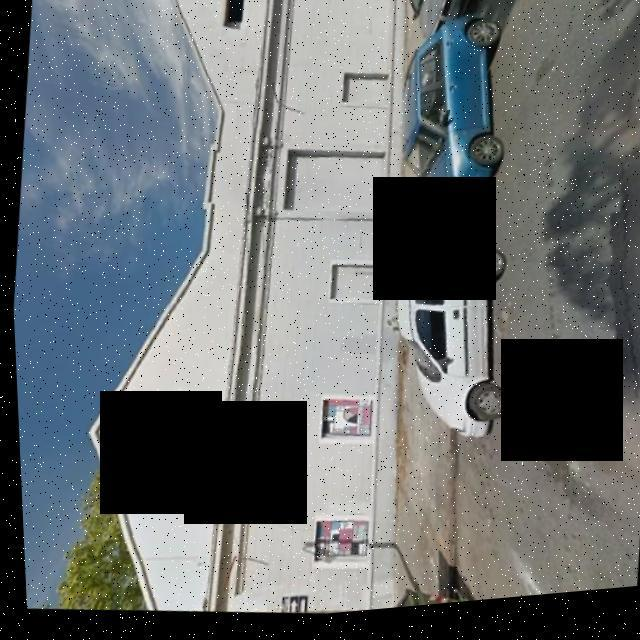bin: (376, 573, 498, 615)
